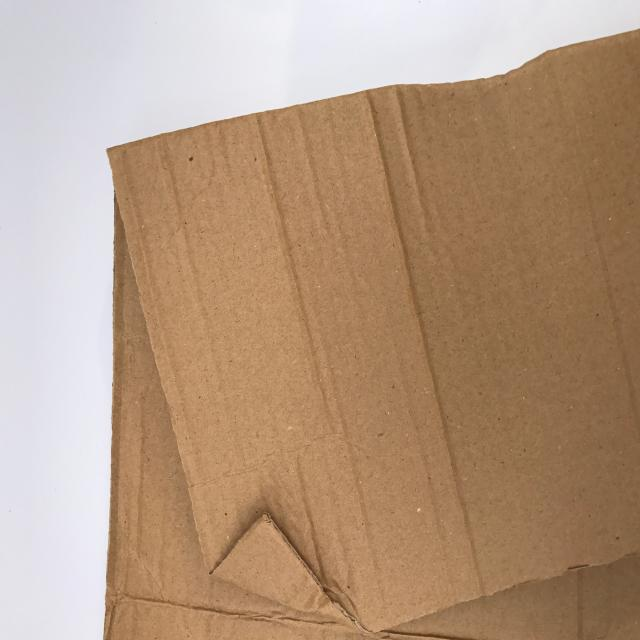cardboard: (99, 22, 640, 640)
